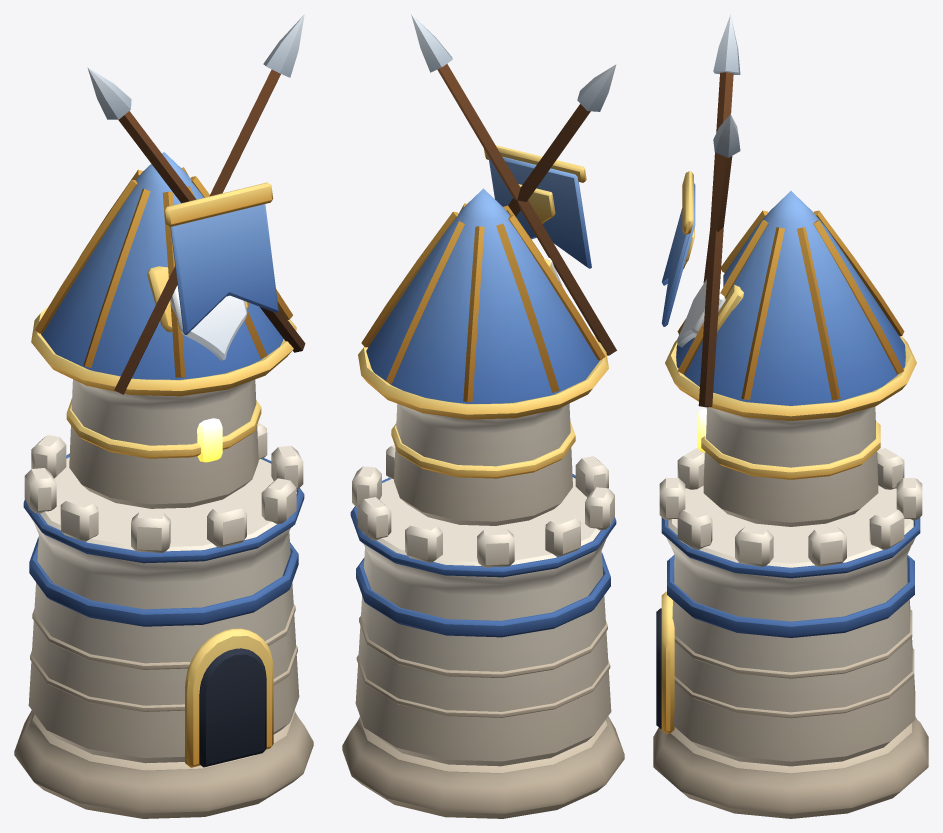
Rendered from Barracks_AssaultGuard.fbx.
3 renders of one model, left to right at view 1: azimuth 30°, elevation 25°; view 2: azimuth 150°, elevation 25°; view 3: azimuth 270°, elevation 25°, orthographic. The views are drawn at different scales.
Parts seen in each view (by area): view 1: BarracksBody; view 2: BarracksBody; view 3: BarracksBody.
Part boxes in pixels (x1,y1,x2,y2): BarracksBody: (14, 14, 313, 818); BarracksBody: (342, 14, 624, 818); BarracksBody: (653, 14, 928, 818).
Bounding box in the file's own units: 1.32 × 3.61 × 1.29.
